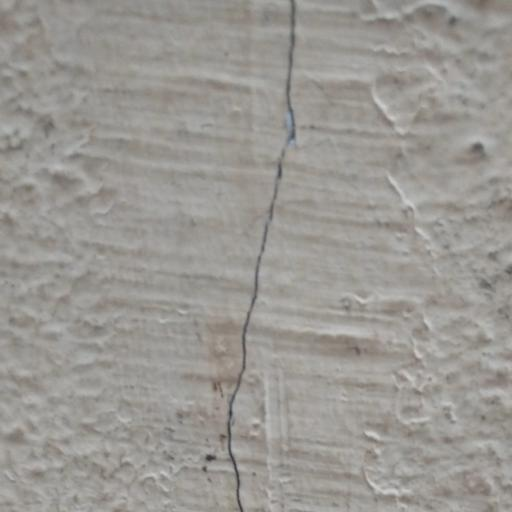minor_crack: (207, 0, 301, 512)
